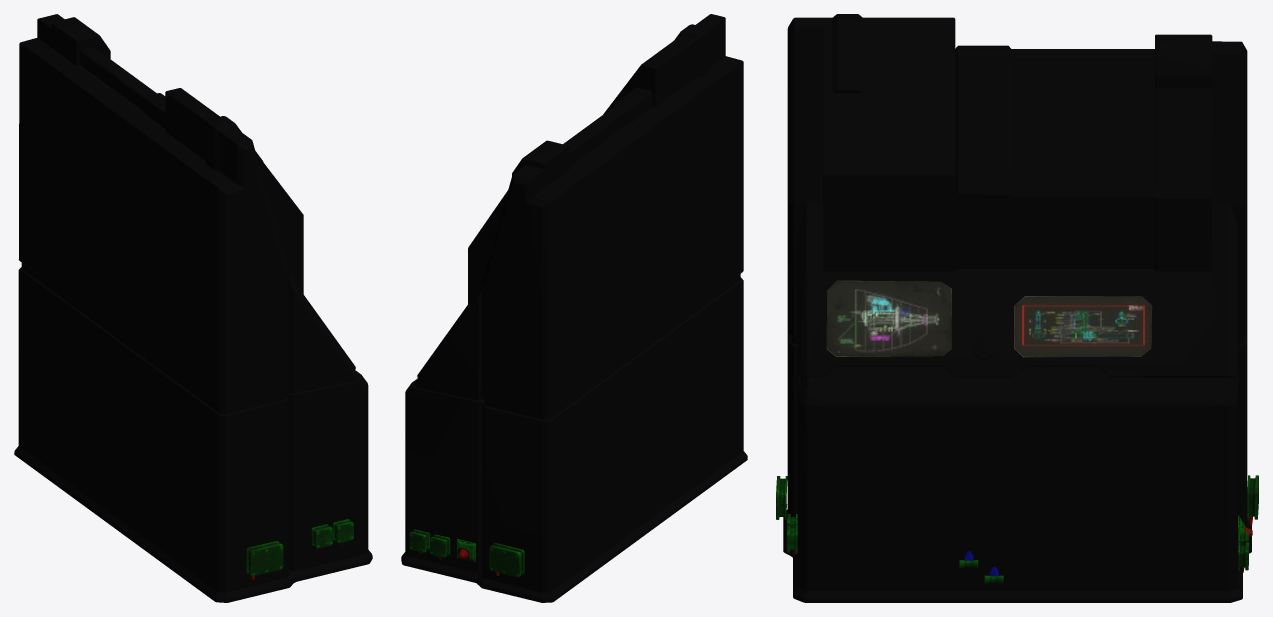
Rendered from prop_computerStation_B.gltf.
3 views of the same model, side by side, from view 1: azimuth 30°, elevation 25°; view 2: azimuth 150°, elevation 25°; view 3: azimuth 270°, elevation 25° (orthographic). The views are drawn at different scales.
Visible parts, largest first — view 1: prop_computerStation_B; view 2: prop_computerStation_B; view 3: prop_computerStation_B.
Part boxes in pixels (x1=…): prop_computerStation_B: x1=14, y1=14, x2=372, y2=602; prop_computerStation_B: x1=401, y1=14, x2=747, y2=602; prop_computerStation_B: x1=776, y1=14, x2=1258, y2=602.
Bounding box in the file's own units: 1.09 × 2.75 × 2.35.
Materials: 2 (2 with a texture image).
